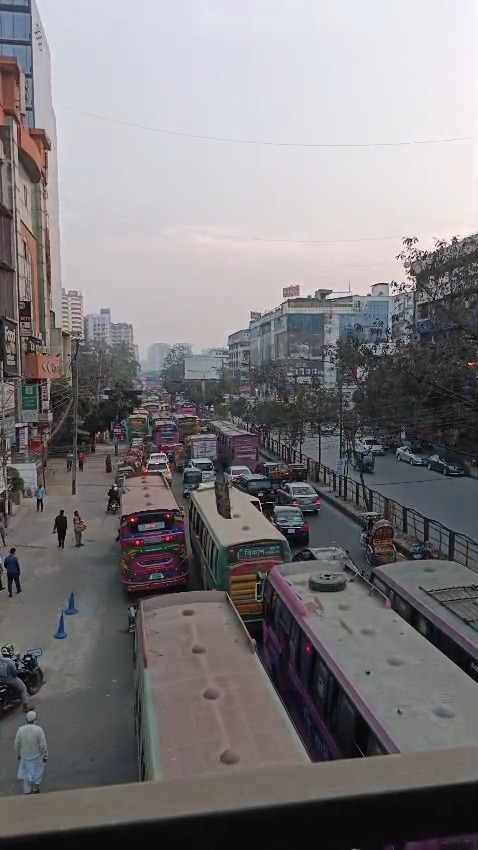Bikes: (5, 629, 54, 721)
Bus: (117, 559, 478, 850), (205, 477, 273, 595), (122, 475, 192, 575)
auto-ricksaw: (358, 515, 478, 563)
private car: (287, 467, 318, 507)
